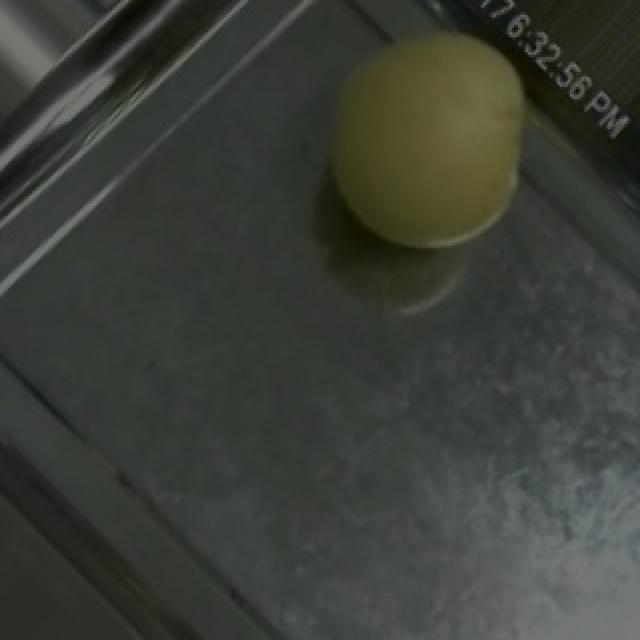Fruit: (278, 0, 580, 288)
